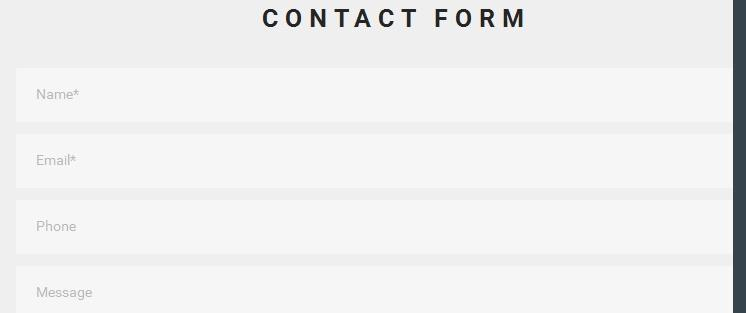field: (13, 133, 736, 193), (13, 198, 736, 256), (11, 65, 733, 123)
